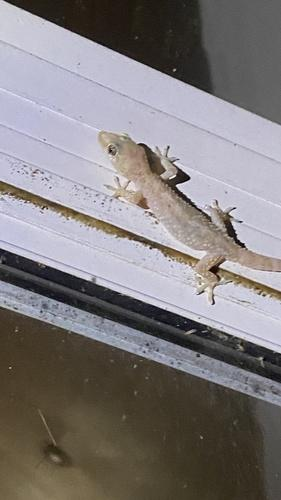lizard: (98, 127, 276, 297)
